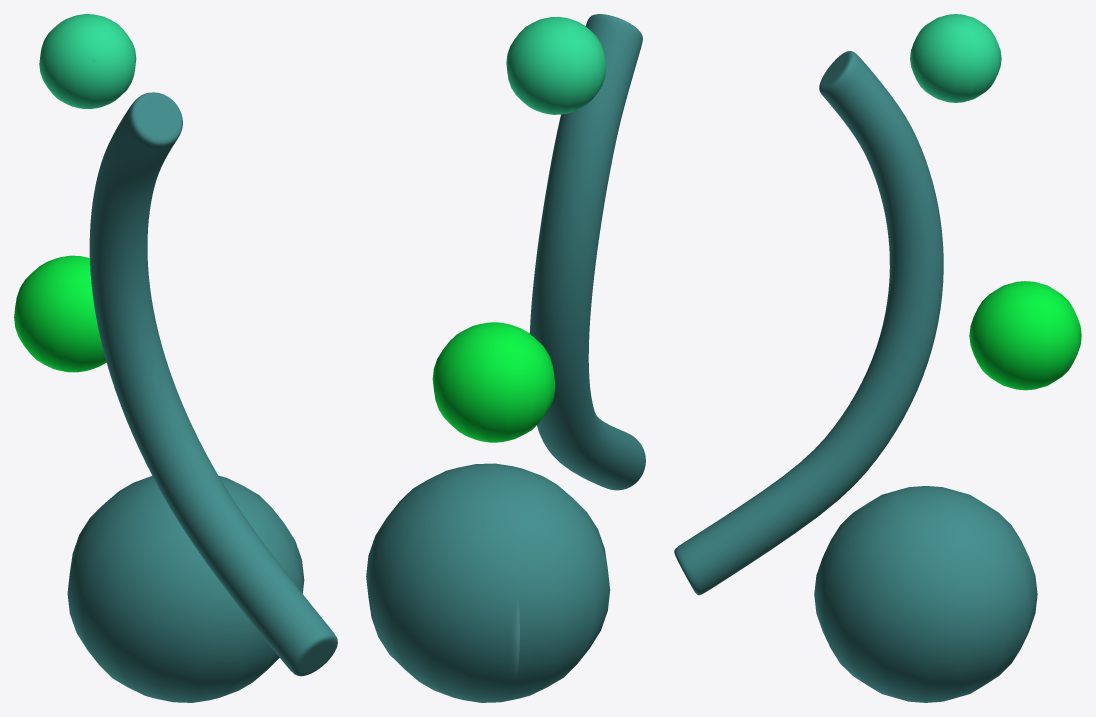
The model's file is E1 comp.glb.
3 views of the same model, side by side, from view 1: azimuth 30°, elevation 25°; view 2: azimuth 150°, elevation 25°; view 3: azimuth 270°, elevation 25° (orthographic). The views are drawn at different scales.
Visible parts, largest first — view 1: E.1; view 2: E.1; view 3: E.1.
Boxes of the visible parts, box(x1,y1,x2,y2) form: E.1: box(14, 14, 337, 702); E.1: box(366, 14, 645, 702); E.1: box(674, 14, 1081, 702).
Bounding box in the file's own units: 0.4886 × 1.39 × 0.8091.
Materials: 1 (1 with a texture image).
